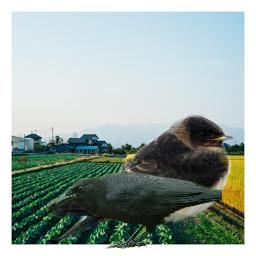Crow: (55, 172, 223, 250)
Swallow: (47, 114, 235, 243)
